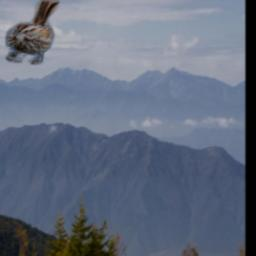Sparrow: (5, 0, 60, 66)
